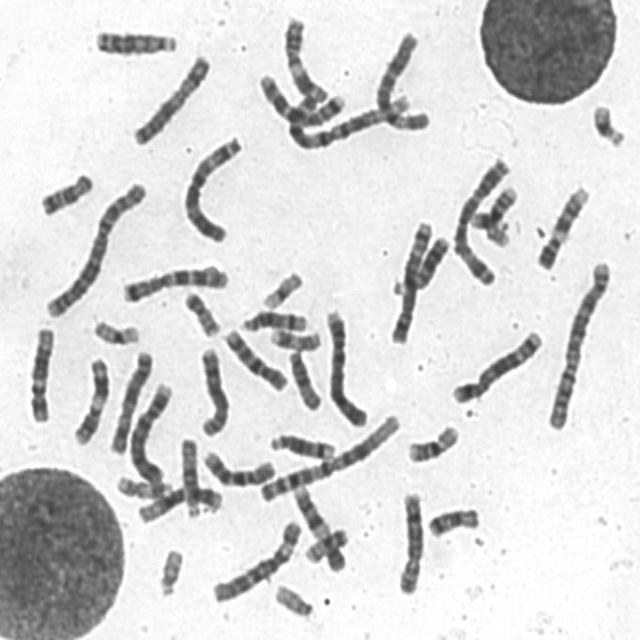A1: (254, 406, 406, 504), (283, 84, 415, 152)
A2: (40, 176, 150, 321), (542, 255, 616, 432)
A3: (448, 151, 513, 289), (178, 128, 246, 245)
B4: (321, 304, 372, 428), (125, 377, 176, 487)
B5: (448, 323, 547, 407), (386, 215, 436, 346)
C10: (219, 322, 292, 394), (199, 444, 278, 489)
C11: (280, 9, 332, 104), (68, 351, 112, 447)
C12: (133, 479, 226, 526), (23, 320, 58, 425)
C6: (207, 513, 306, 604), (372, 25, 434, 132)
C7: (254, 66, 346, 129), (117, 258, 233, 306)
C8: (393, 485, 427, 597), (194, 342, 232, 439)
C9: (288, 478, 351, 574), (533, 178, 594, 272)
D13: (388, 229, 452, 295), (91, 22, 181, 58)
D14: (266, 426, 338, 463), (238, 304, 312, 334)
D15: (284, 344, 325, 413), (176, 432, 204, 519)
E16: (474, 180, 521, 245), (402, 418, 463, 465)
E17: (111, 470, 176, 500), (266, 323, 324, 353)
E18: (36, 166, 98, 218), (424, 501, 483, 540)
F19: (258, 264, 307, 310), (88, 314, 144, 347)
F20: (300, 521, 353, 566), (180, 286, 223, 338)
G21: (588, 98, 630, 150), (466, 208, 509, 232)
G22: (270, 579, 317, 620), (154, 543, 187, 599)
X: (128, 47, 215, 148), (104, 344, 156, 457)
